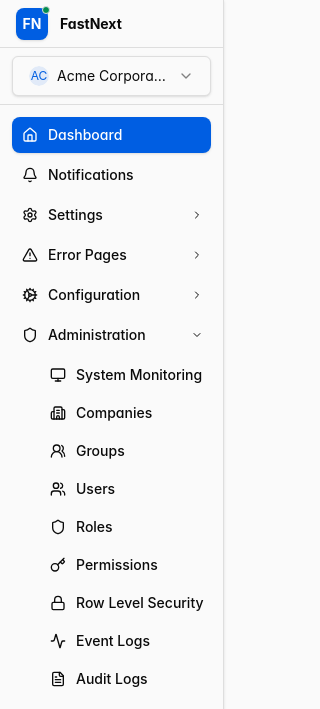
Test: Sidebar Component › expands and collapses submenu items
Expected: the text "Data Import/Export Config" is not shown
Click to expand
Click the button "Configuration" at (112, 295), box [12,277,211,313]
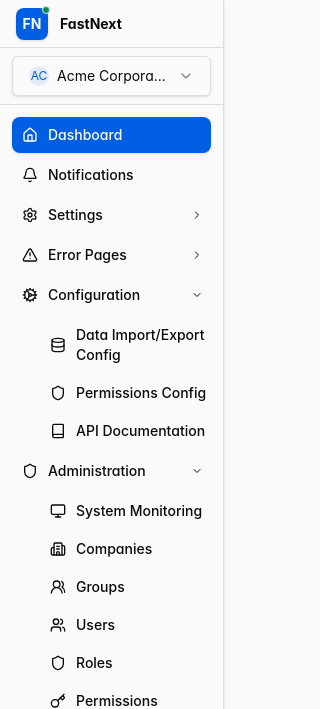
Now the text "Data Import/Export Config" is shown, box [76,325,215,365]
Now the text "Permissions Config" is shown, box [76,383,215,403]
Now the text "API Documentation" is shown, box [76,421,215,441]
